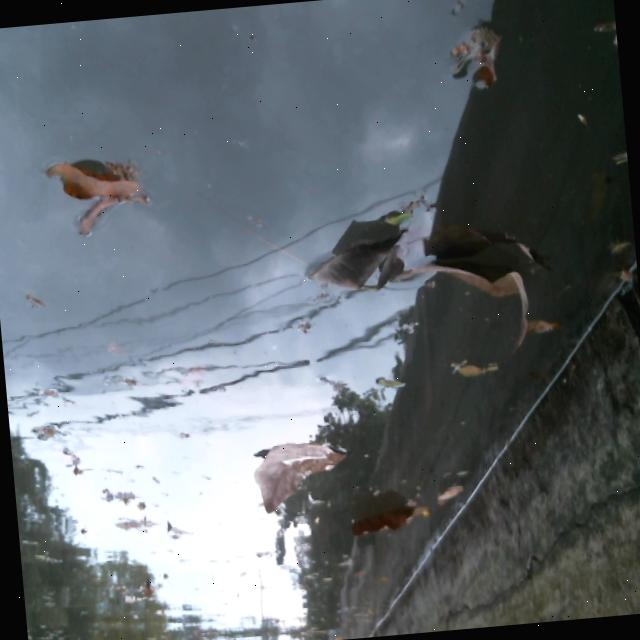Big-leaf: (373, 205, 553, 338), (281, 184, 412, 316), (243, 429, 358, 520), (350, 490, 430, 564)
Small-leaf: (441, 18, 515, 102), (50, 149, 136, 205), (73, 188, 152, 241), (431, 460, 476, 510), (447, 346, 500, 384), (586, 0, 618, 60), (122, 573, 165, 605), (608, 146, 628, 172)
